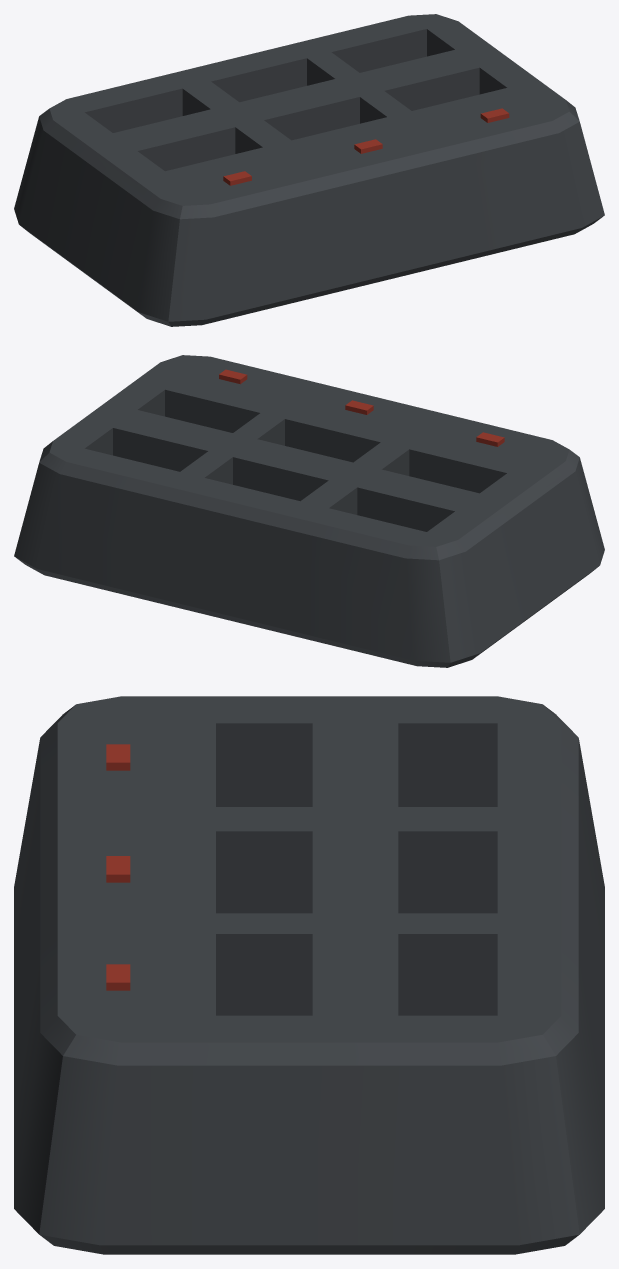
Rendered from SM_Prop_WalkieTalkie_Base_01.fbx.
The picture shows the model from 3 angles, top to bottom: view 1: azimuth 30°, elevation 25°; view 2: azimuth 150°, elevation 25°; view 3: azimuth 270°, elevation 25°; orthographic projection. The views are drawn at different scales.
Visible parts, largest first — view 1: SM_Prop_WalkieTalkie_Base_01; view 2: SM_Prop_WalkieTalkie_Base_01; view 3: SM_Prop_WalkieTalkie_Base_01.
Part boxes in pixels (x1,y1,x2,y2): SM_Prop_WalkieTalkie_Base_01: (14, 14, 604, 326); SM_Prop_WalkieTalkie_Base_01: (14, 355, 604, 667); SM_Prop_WalkieTalkie_Base_01: (14, 696, 604, 1254).
Bounding box in the file's own units: 53.42 × 12.89 × 33.83.
